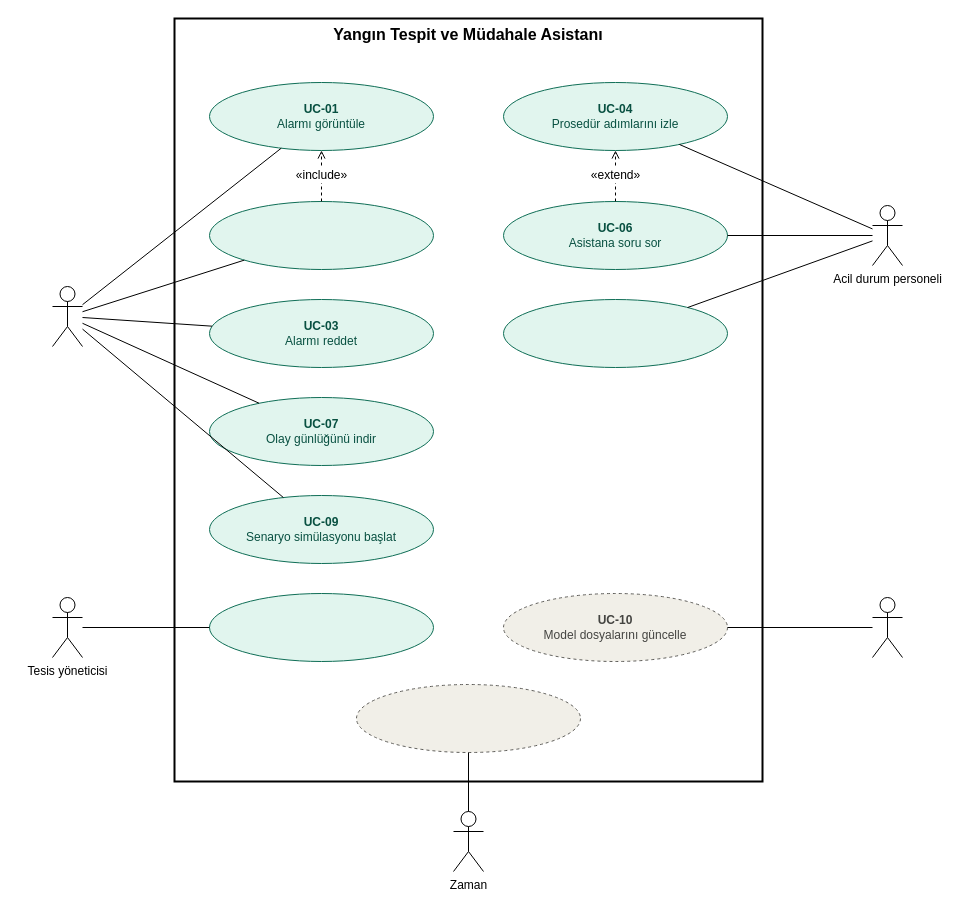
Some shapes in this 959 by 909 pixel diagram are drawn without their labels. Here are the shapes that lost their labels. From the top down, the centre of each, then its label:
At point 321,235: "UC-02 Alarmı doğrula".
At point 67,316: "Güvenlik operatörü".
At point 615,333: "UC-05 Adımı tamamla".
At point 321,627: "UC-08 Geçmiş olayları görüntüle".
At point 887,627: "Sistem yöneticisi".
At point 468,718: "UC-11 60 sn sonra otomatik yükselt".
